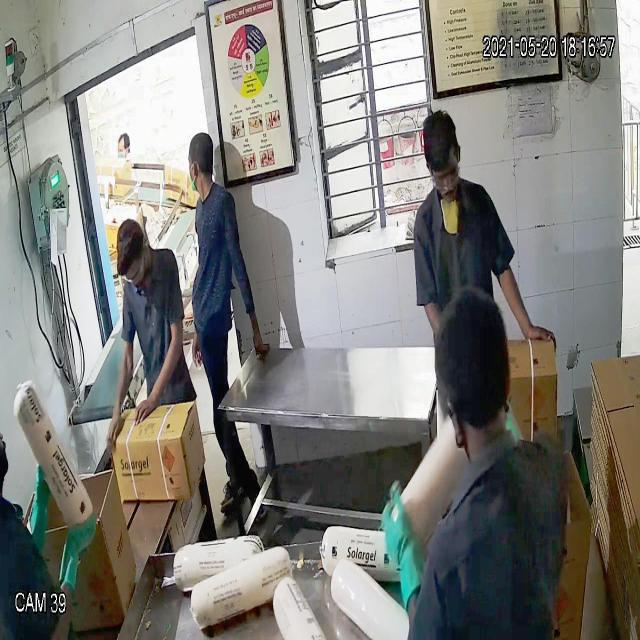glasses: (110, 258, 150, 290)
